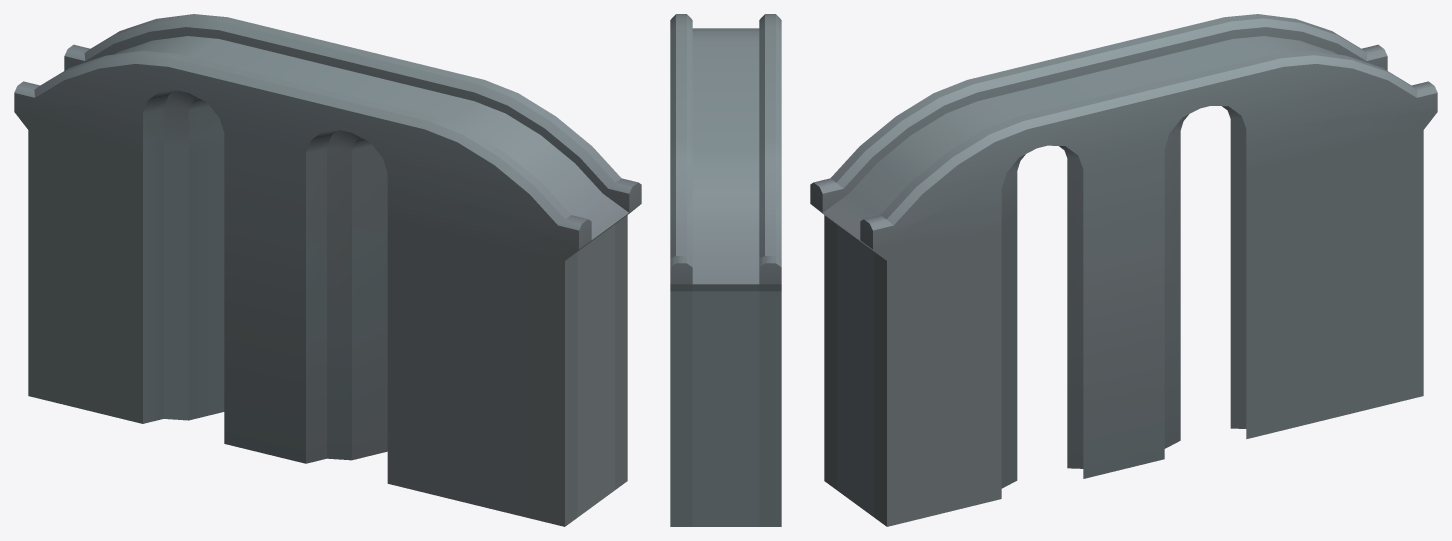
The model's file is building_bridge_A.glb.
The picture shows the model from 3 angles, left to right: view 1: azimuth 30°, elevation 25°; view 2: azimuth 150°, elevation 25°; view 3: azimuth 270°, elevation 25°; orthographic projection. The views are drawn at different scales.
Parts seen in each view (by area): view 1: building_bridge_A; view 2: building_bridge_A; view 3: building_bridge_A.
Boxes of the visible parts, bbox=[...] form: building_bridge_A: bbox=[14, 14, 641, 526]; building_bridge_A: bbox=[670, 14, 781, 526]; building_bridge_A: bbox=[810, 14, 1437, 526].
Bounding box in the file's own units: 1.33 × 1.25 × 1.92.
Materials: 1 (1 with a texture image).
